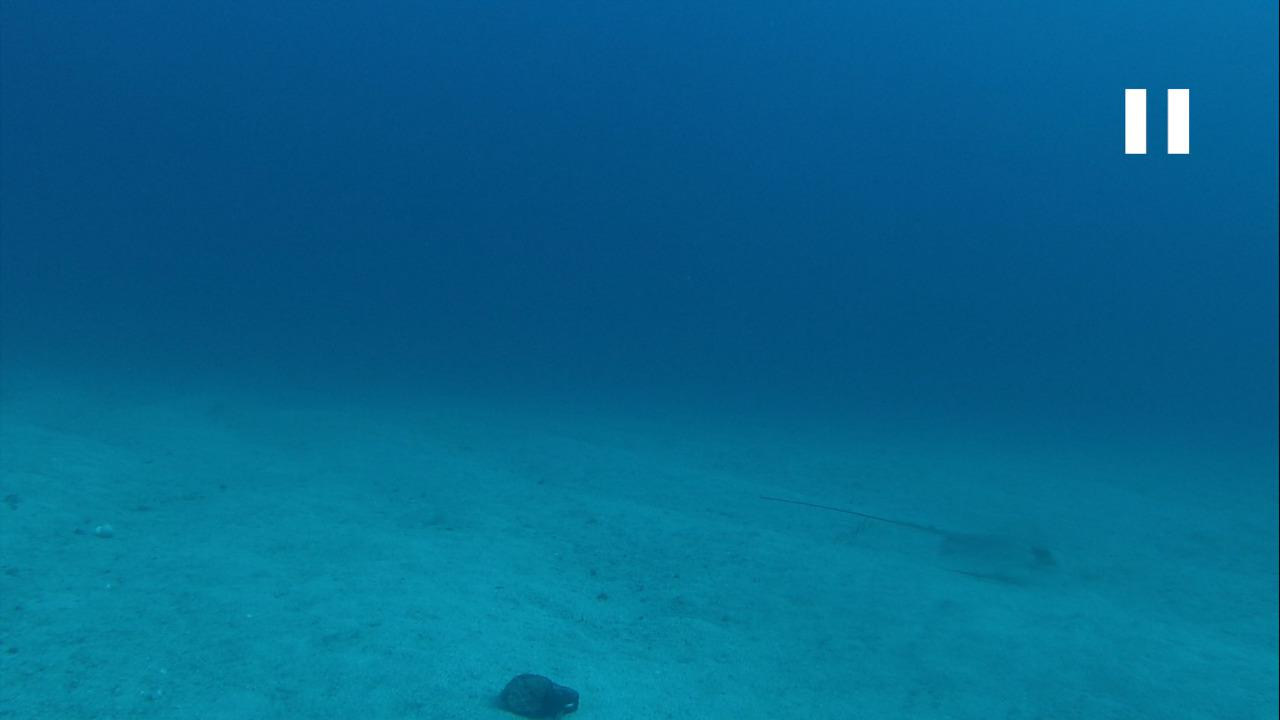myliobatis: (750, 492, 1072, 584)
